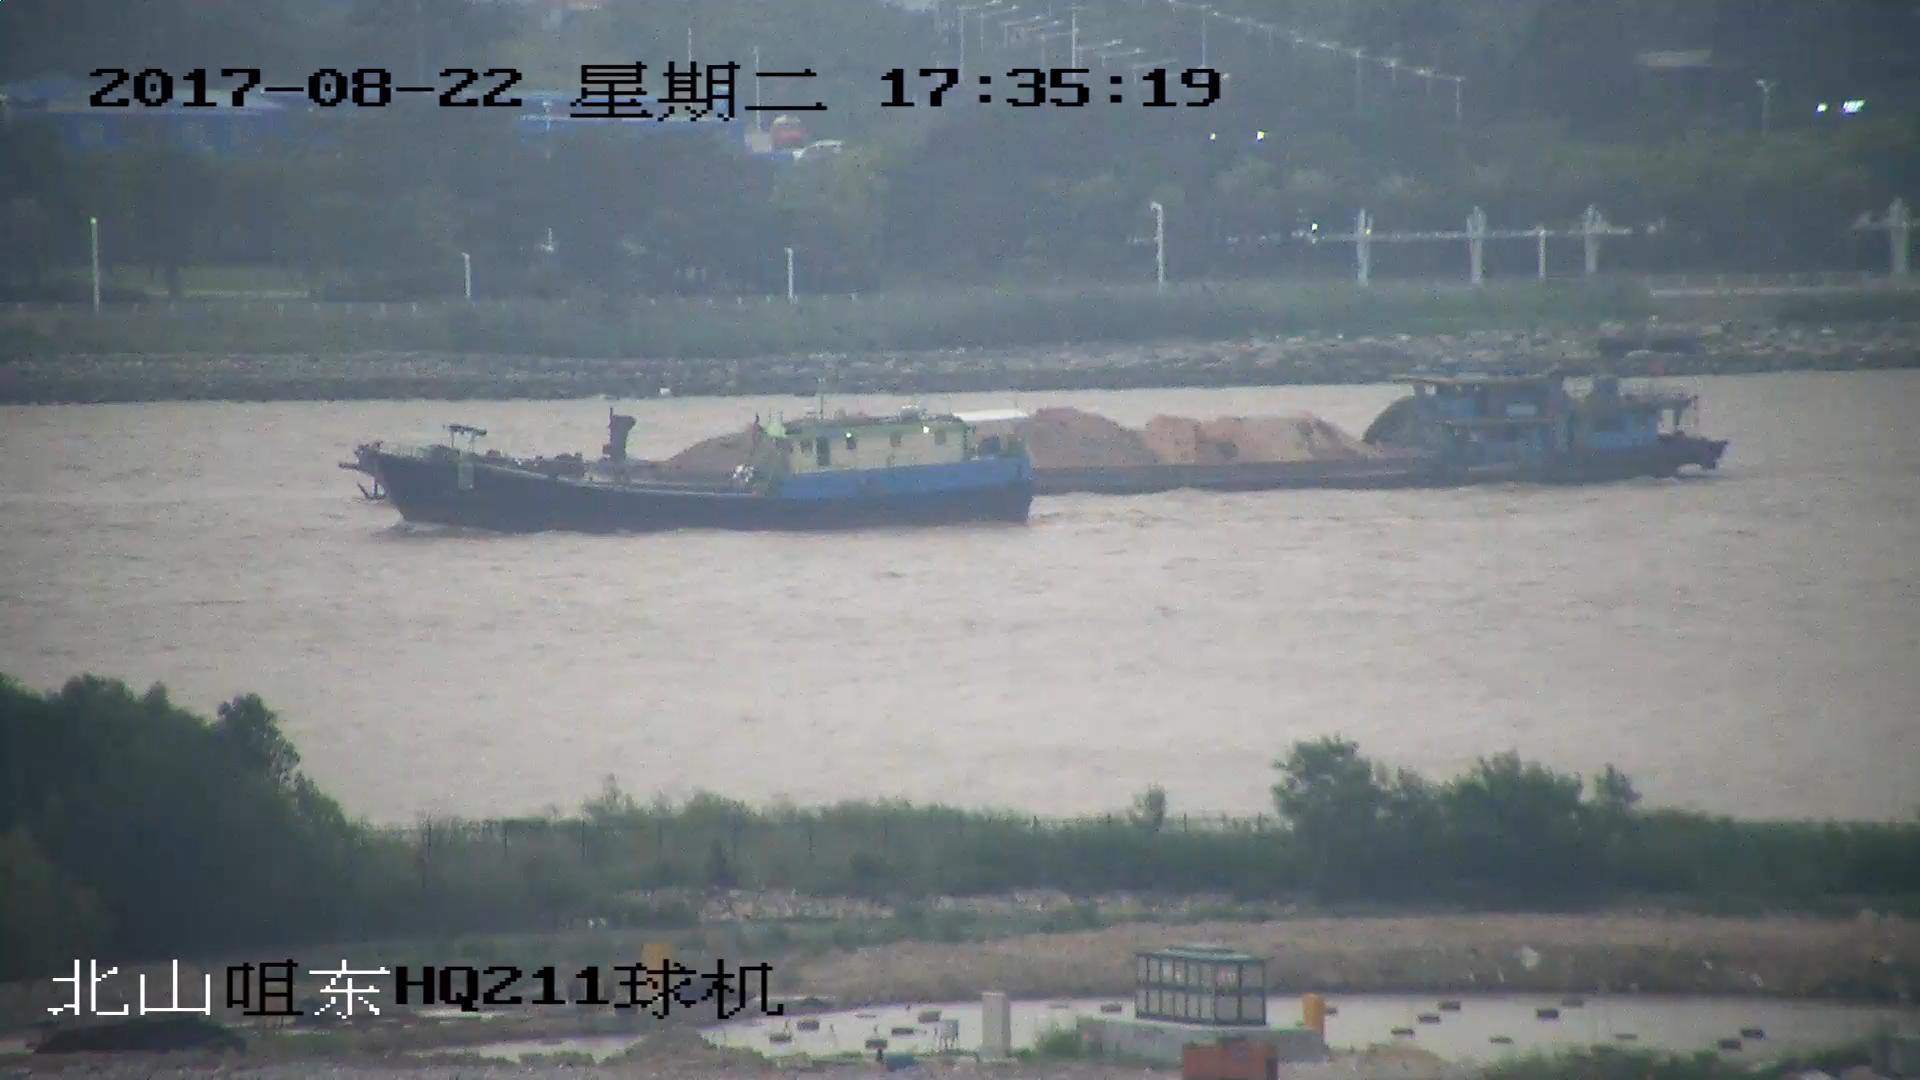Ship: (347, 353, 1722, 504), (375, 404, 1033, 535)
